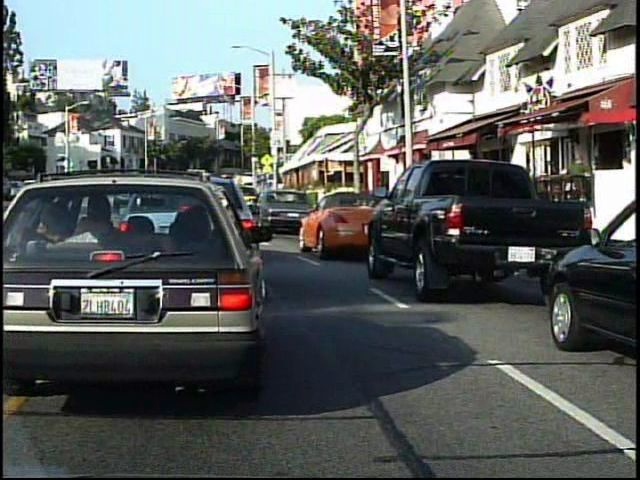person: (562, 148, 595, 224)
